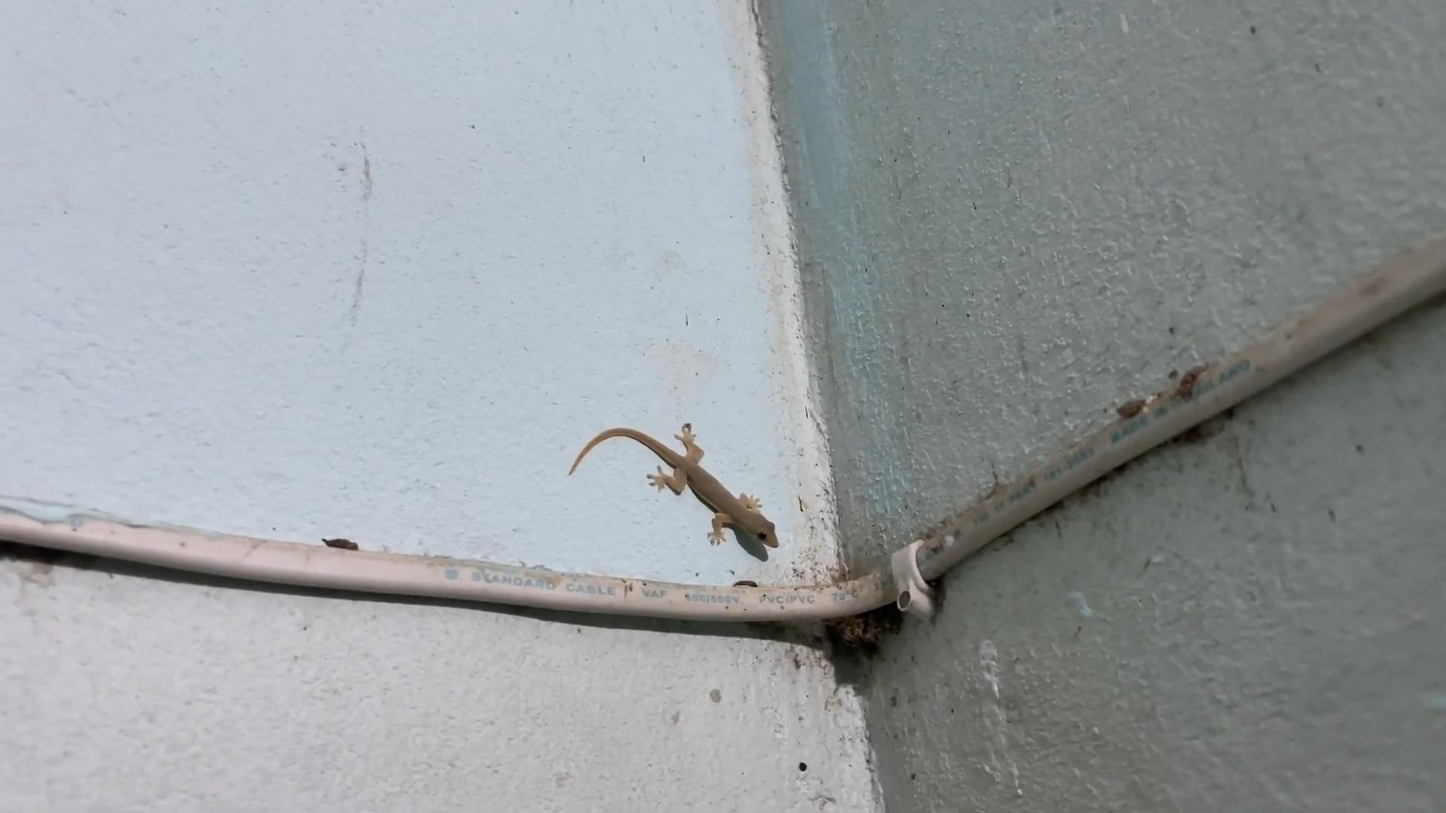lizard: (560, 401, 787, 548)
